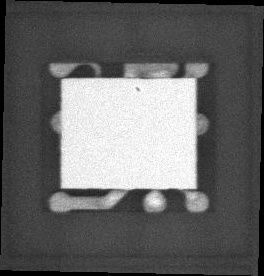DIE_INK: (127, 88, 136, 96)
